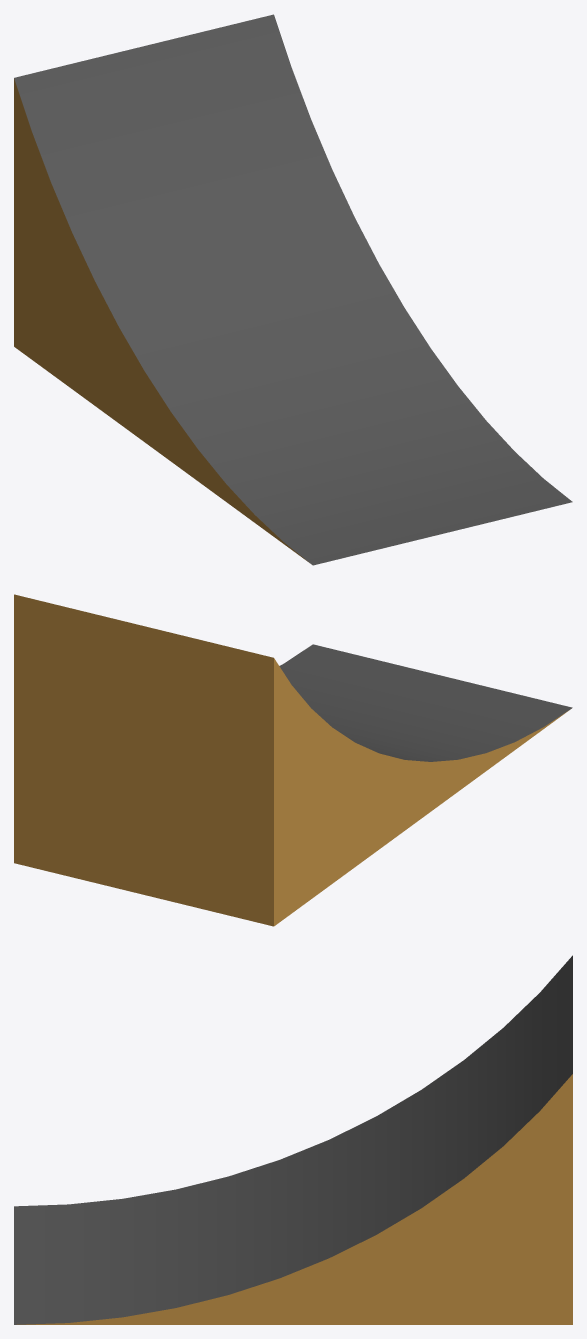
Rendered from Skate_Quarter_Pipe_Long_01.FBX.
3 renders of one model, top to bottom at view 1: azimuth 30°, elevation 25°; view 2: azimuth 150°, elevation 25°; view 3: azimuth 270°, elevation 25°, orthographic. The views are drawn at different scales.
Visible parts, largest first — view 1: Skate_Quarter_Pipe_Long_01; view 2: Skate_Quarter_Pipe_Long_01; view 3: Skate_Quarter_Pipe_Long_01.
Boxes of the visible parts, x1,y1,x2,y2 form: Skate_Quarter_Pipe_Long_01: [14, 14, 572, 565]; Skate_Quarter_Pipe_Long_01: [14, 594, 572, 926]; Skate_Quarter_Pipe_Long_01: [14, 955, 572, 1324].
Size of the model in its own units: 3 by 2.96 by 5.98.
